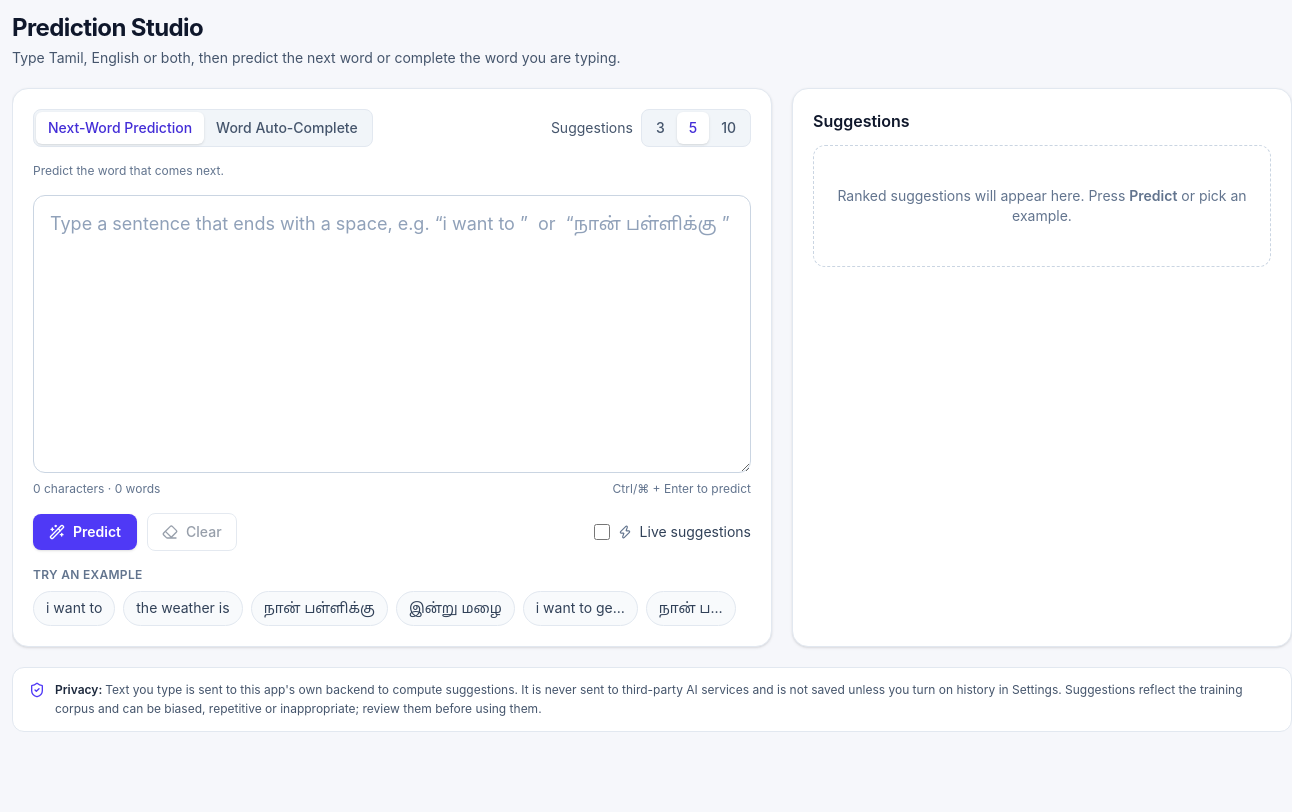
Prediction Studio › inserts the clicked suggestion into the editor with correct spacing
Click the text box named "Text to continue" at (392, 334), box left=33, top=195, right=751, bottom=473
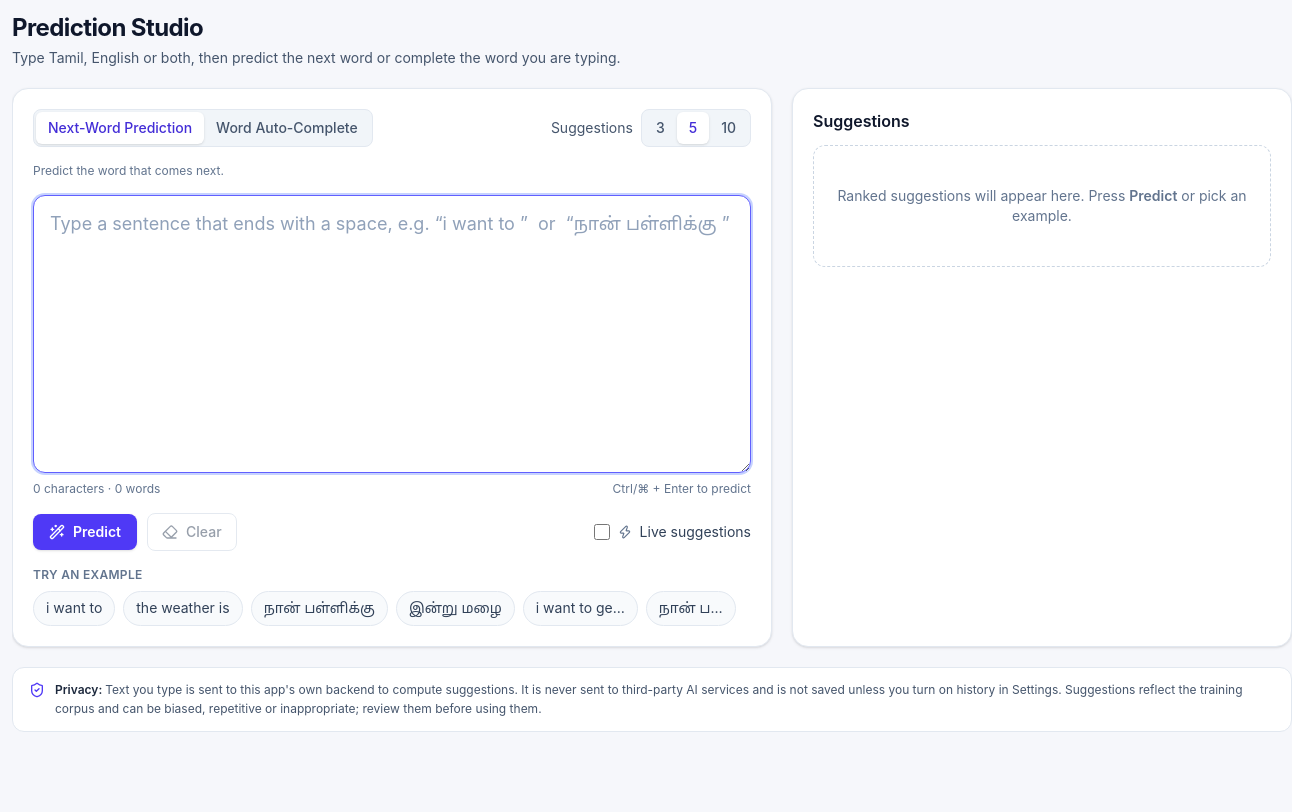
Type keys "i want to"
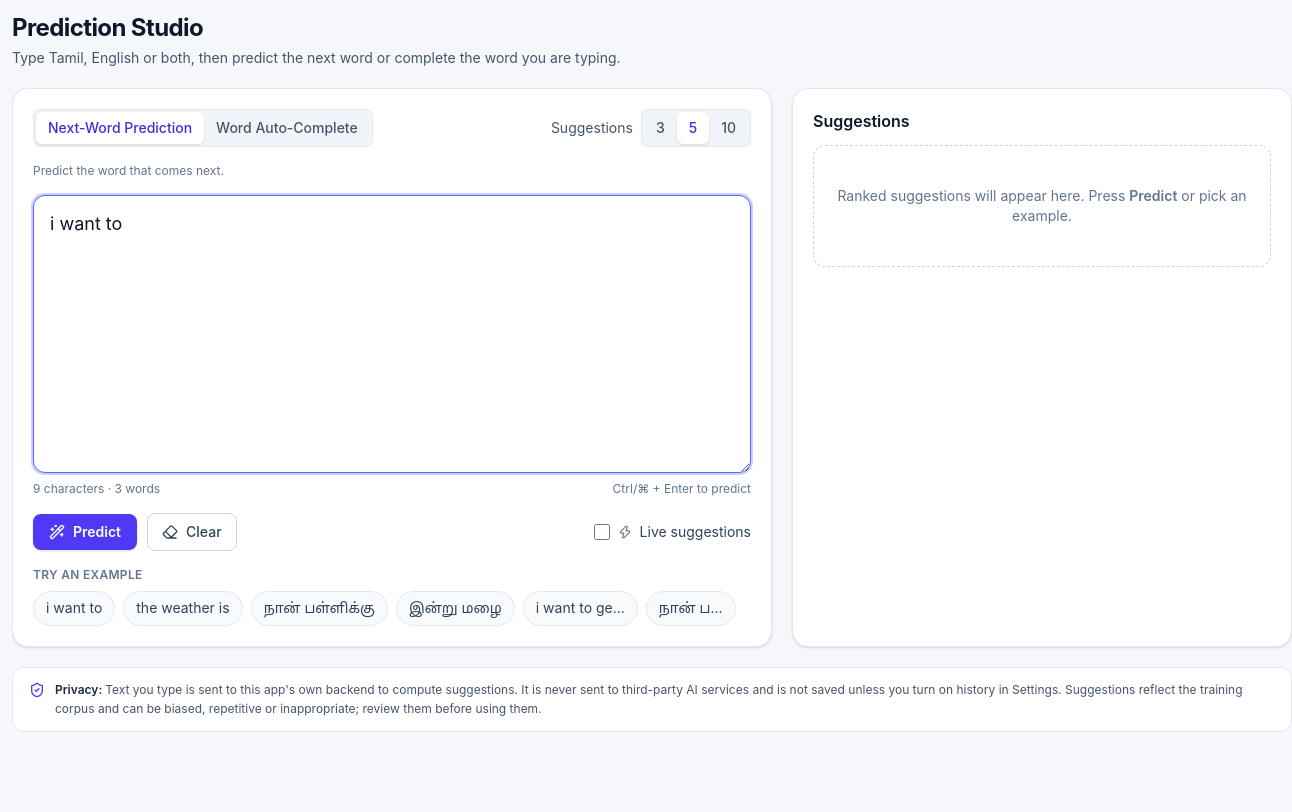
Click the button "Predict" at (85, 532), box left=33, top=514, right=137, bottom=550
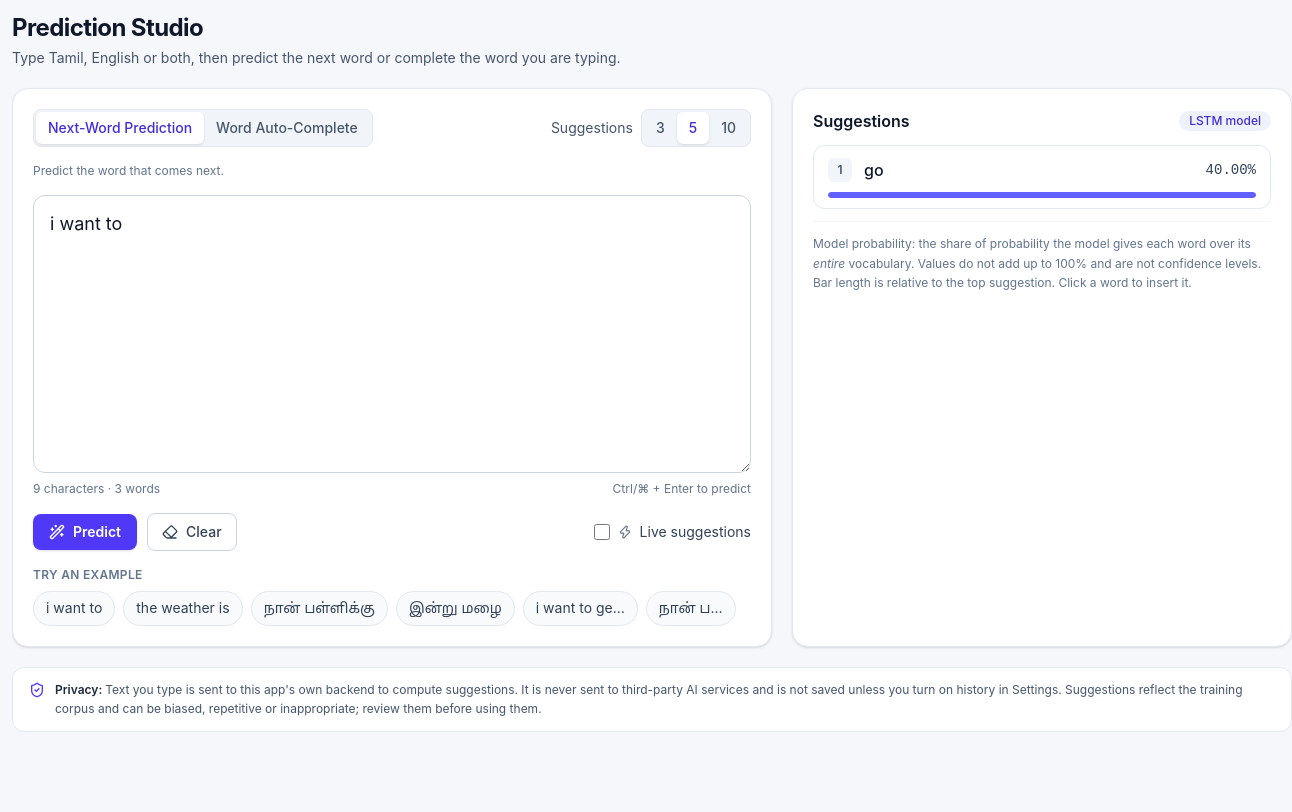
Click the button with aria-label "insert go" at (1231, 170), box left=813, top=145, right=1271, bottom=209
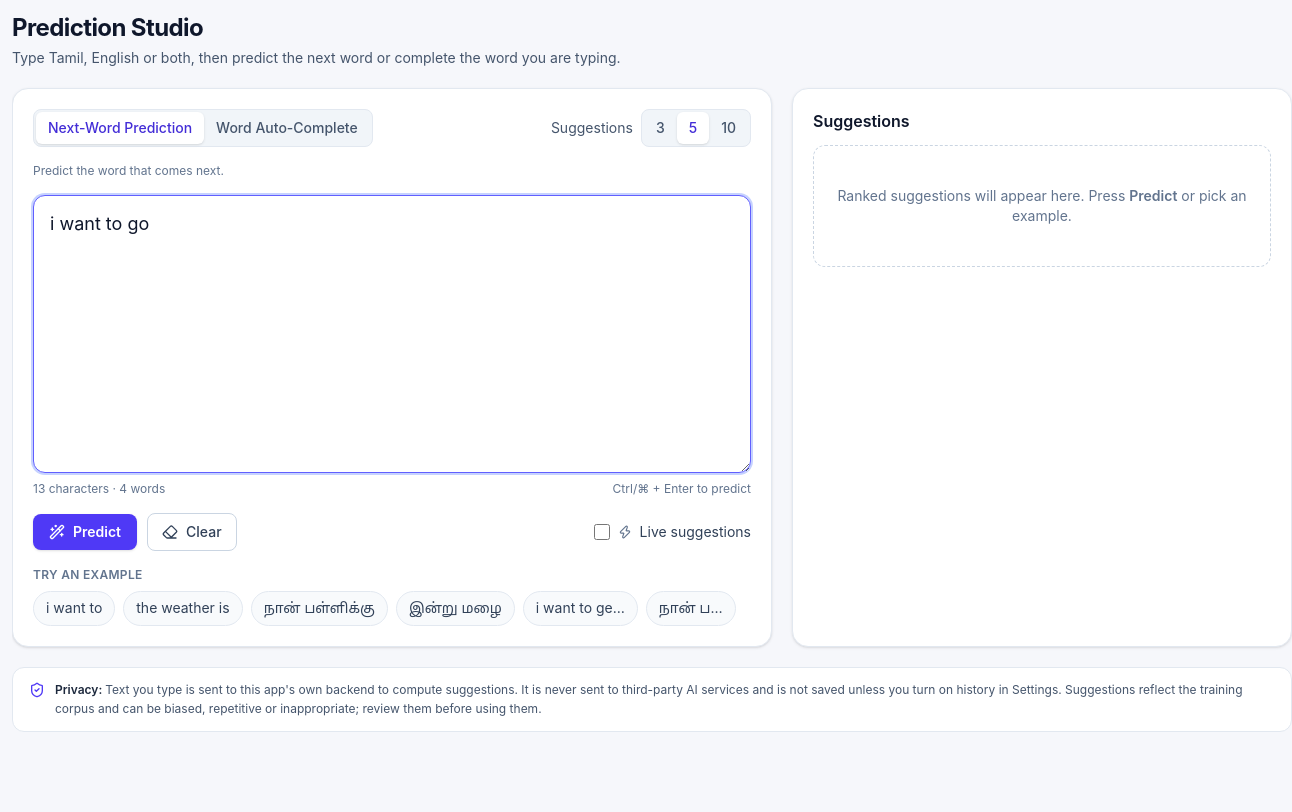
Check: the text box named "Text to continue" holds "i want to go ", box left=33, top=195, right=751, bottom=473
